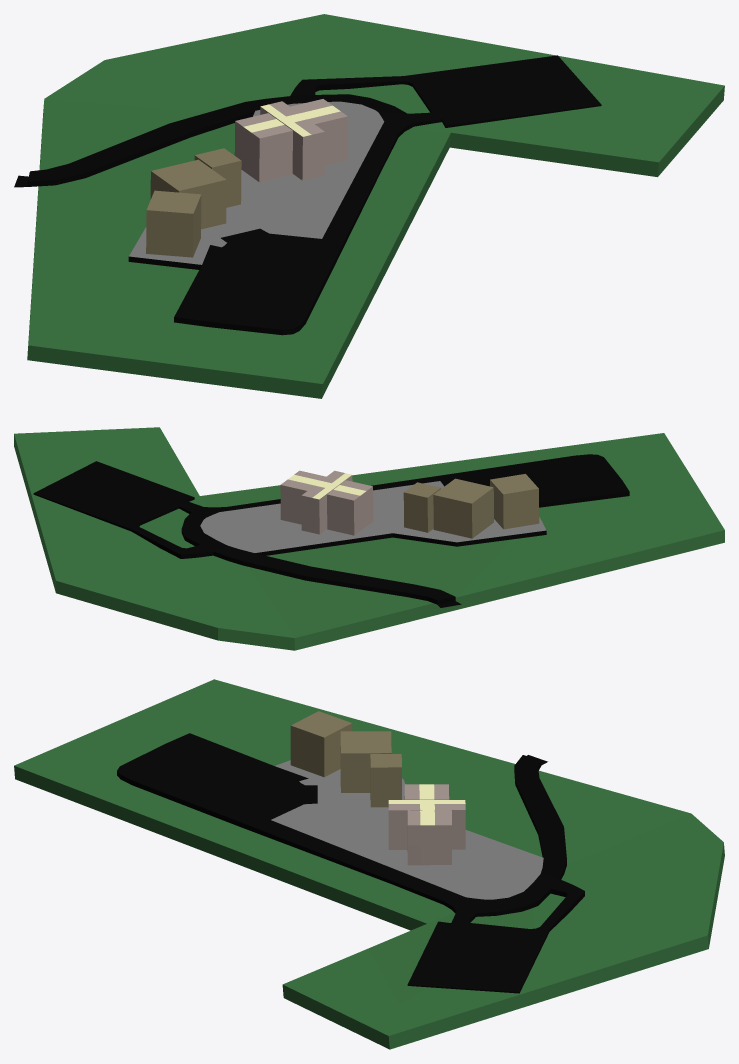
Rendered from isochurch.glb.
3 renders of one model, top to bottom at view 1: azimuth 30°, elevation 25°; view 2: azimuth 150°, elevation 25°; view 3: azimuth 270°, elevation 25°, orthographic. The views are drawn at different scales.
Visible parts, largest first — view 1: Churchgrass, Churchlot, Churchbuildings; view 2: Churchgrass, Churchlot, Churchbuildings; view 3: Churchgrass, Churchlot, Churchbuildings.
Boxes of the visible parts, <box> form: Churchgrass: <box>27,14,724,398</box>; Churchlot: <box>14,55,601,335</box>; Churchbuildings: <box>146,99,347,257</box>; Churchgrass: <box>14,427,724,650</box>; Churchlot: <box>33,454,629,607</box>; Churchbuildings: <box>280,470,539,538</box>; Churchgrass: <box>14,679,724,1049</box>; Churchlot: <box>117,733,584,993</box>; Churchbuildings: <box>290,711,465,865</box>.
Bounding box in the file's own units: 1.14 × 0.1064 × 0.9658.
